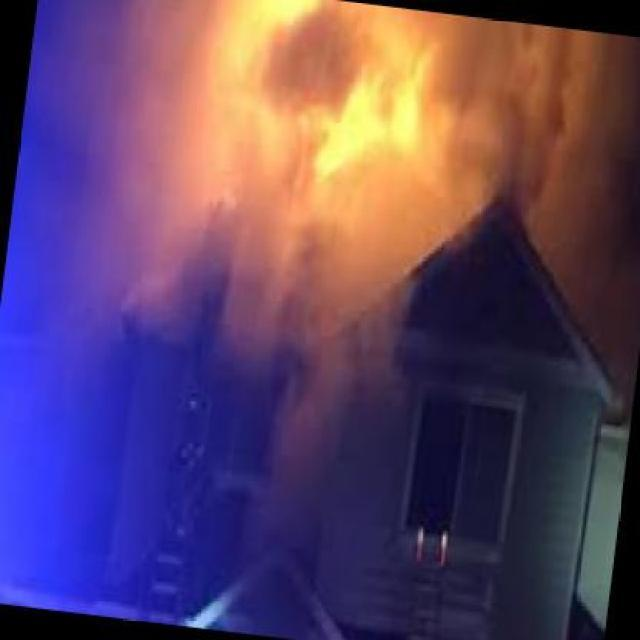Fire: (200, 1, 443, 192)
Smoke: (446, 6, 640, 318), (120, 186, 467, 359), (92, 2, 184, 332)
